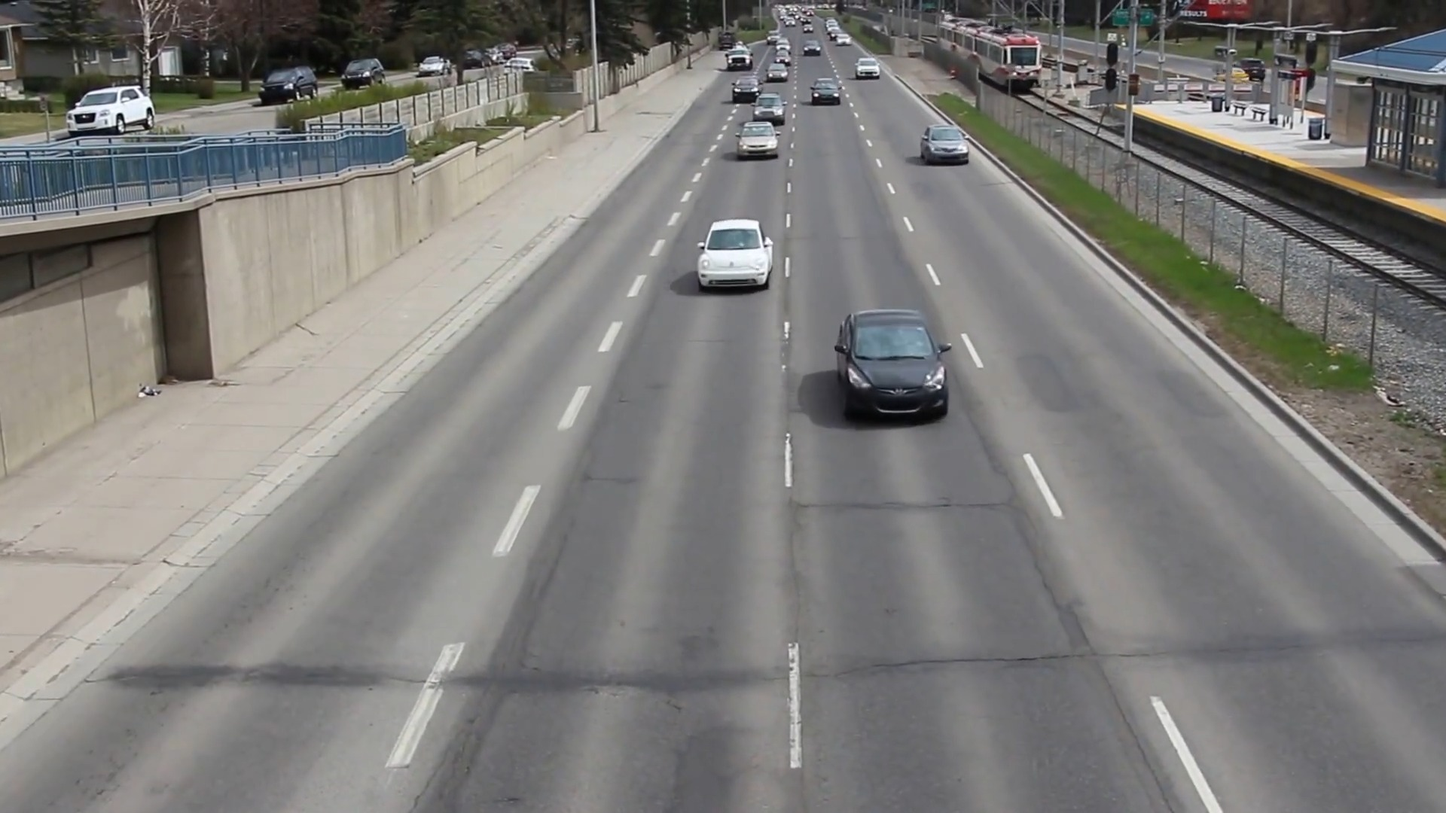car: (829, 303, 959, 425), (697, 217, 775, 289), (914, 119, 974, 169)
